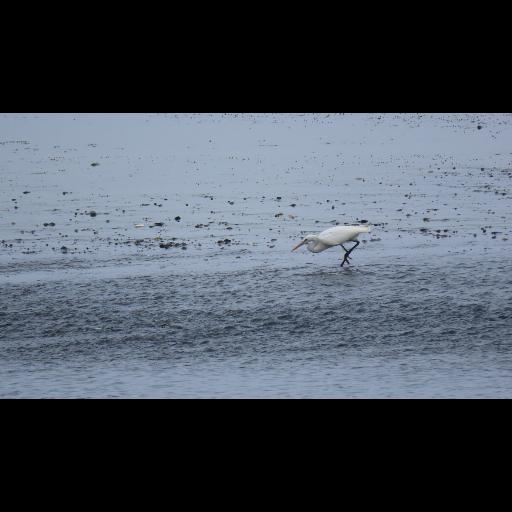chinese_egret: (290, 225, 372, 269)
